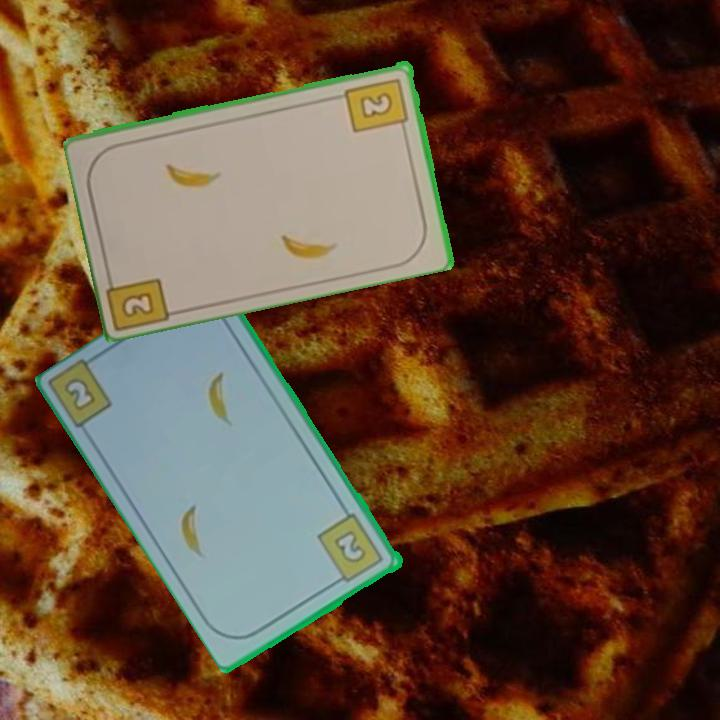2b: (314, 510, 387, 588), (103, 266, 175, 331), (342, 74, 411, 136), (61, 374, 99, 415)
